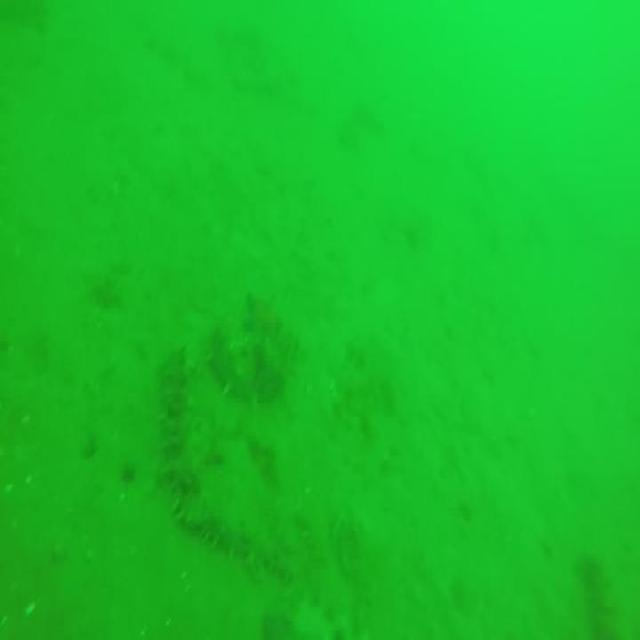holothurian: (174, 501, 292, 578), (207, 322, 279, 403), (154, 354, 193, 487)
